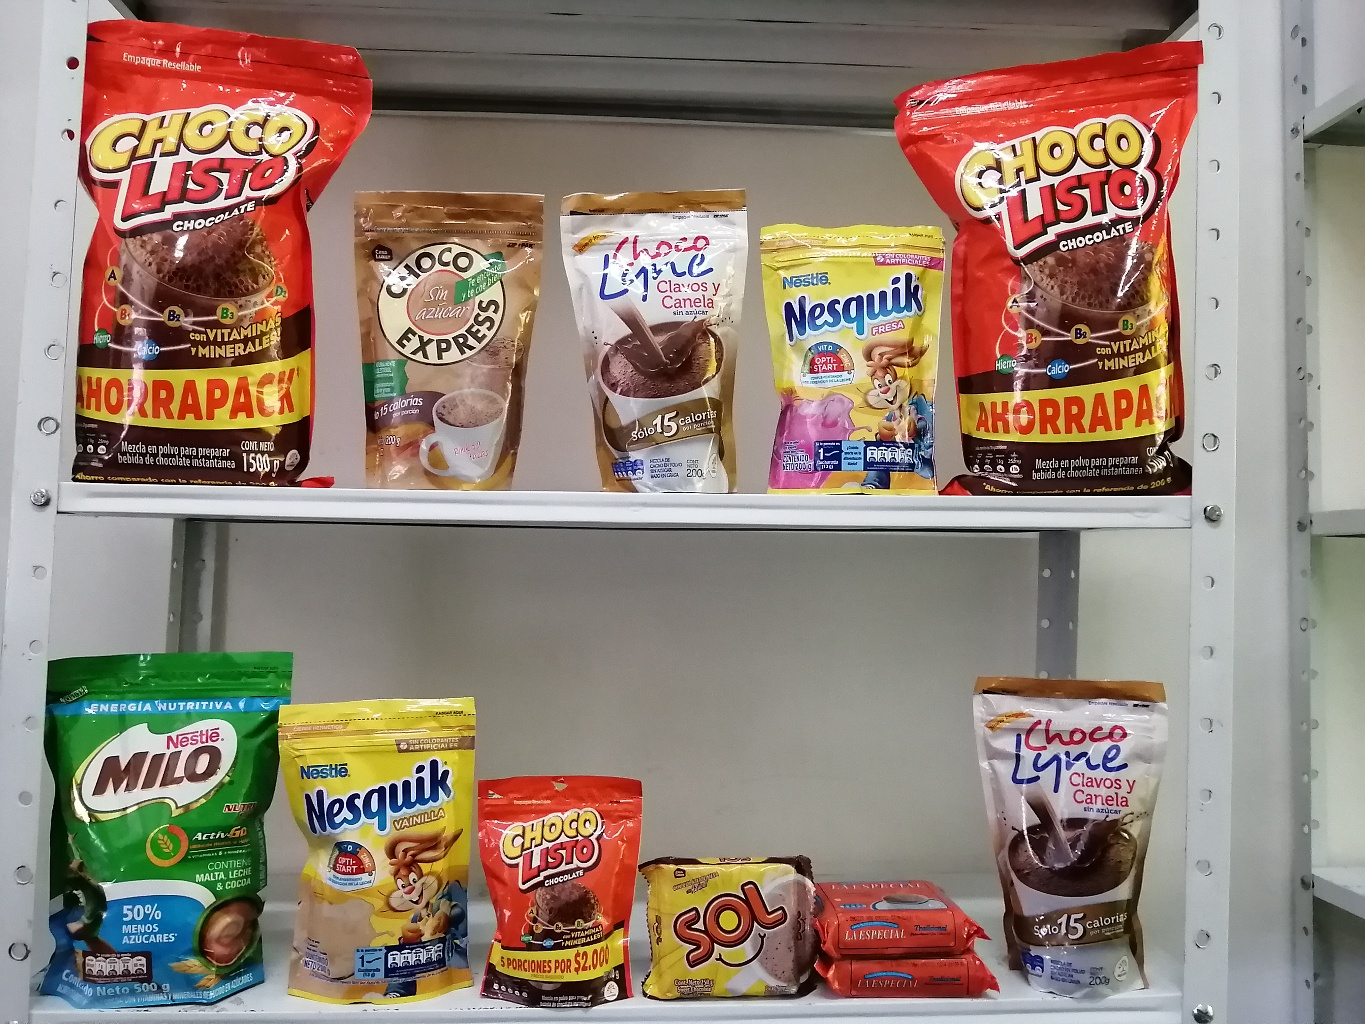COL0170103DYP1,500: (909, 25, 1209, 499)
COL0170205DYP50000: (35, 635, 289, 1011)
COL0170305DYP20000: (760, 209, 948, 504)
COL0170306DYP20000: (276, 688, 483, 1002)
